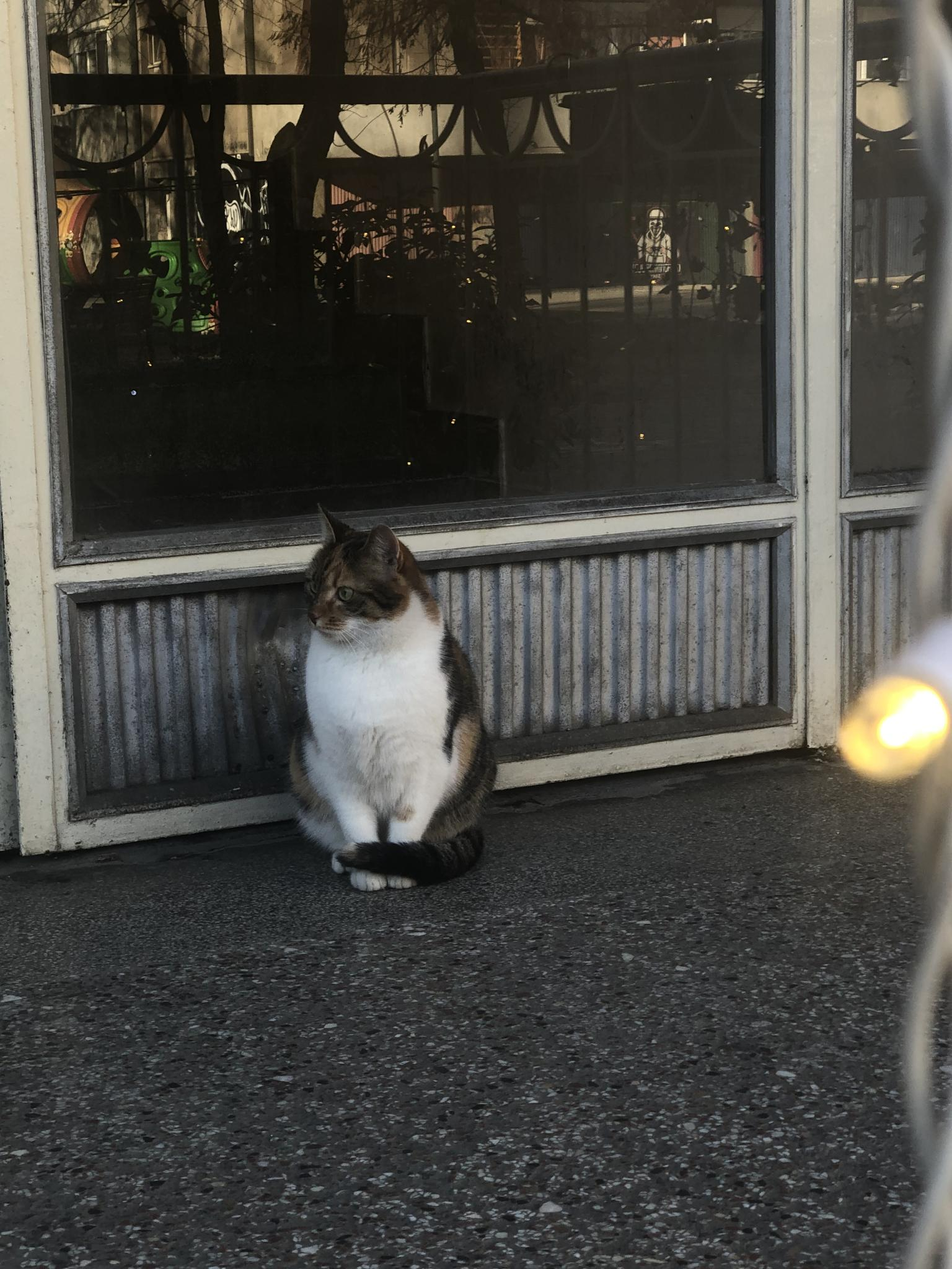macka: (288, 500, 495, 893)
